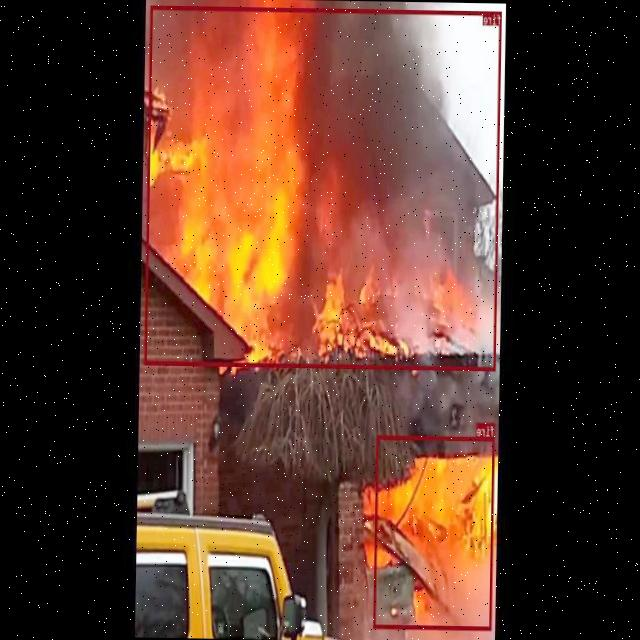fire: (145, 4, 502, 370), (373, 434, 495, 630)
